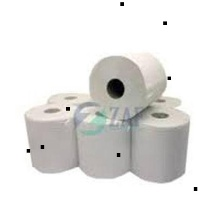tissue: (82, 44, 172, 124), (124, 101, 194, 185), (18, 98, 83, 176), (72, 104, 135, 181), (42, 88, 95, 114)
